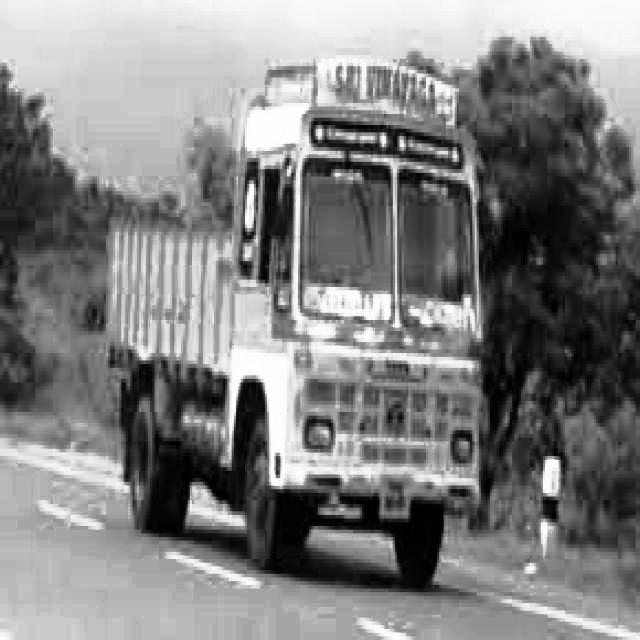HCV: (94, 47, 528, 589)
